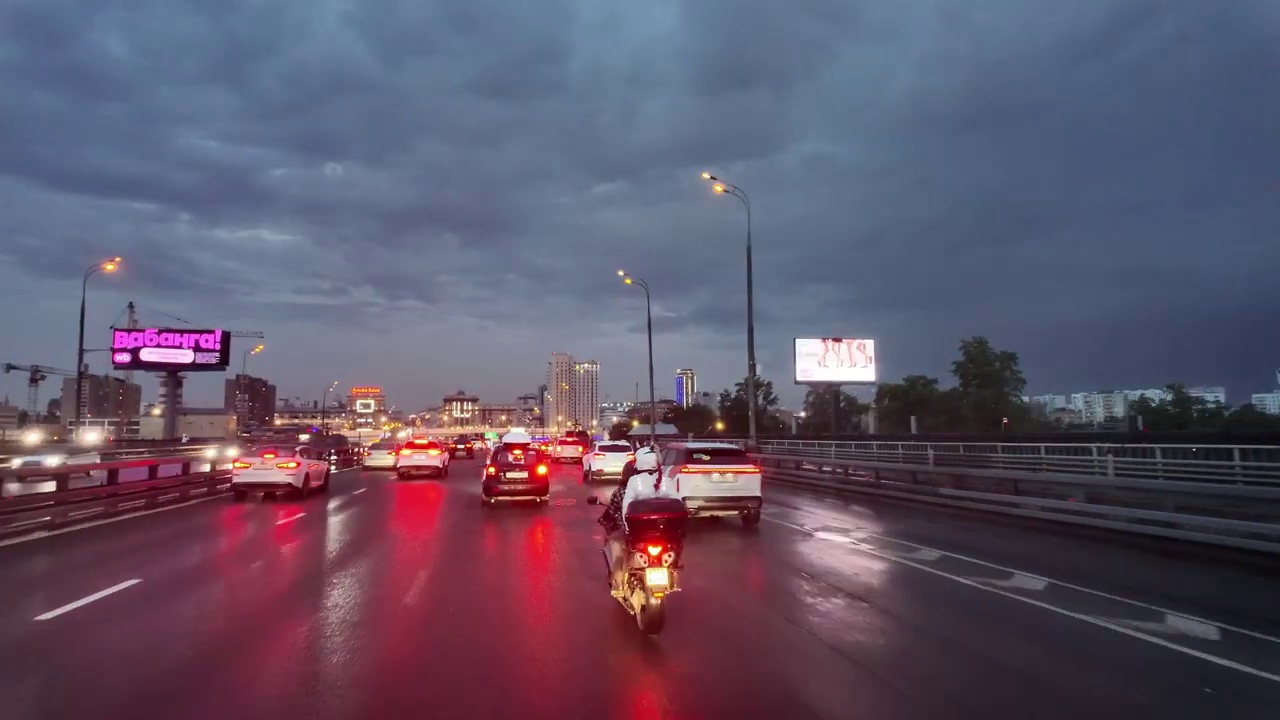acesa: (98, 254, 124, 278)
apagada: (700, 172, 730, 201)
